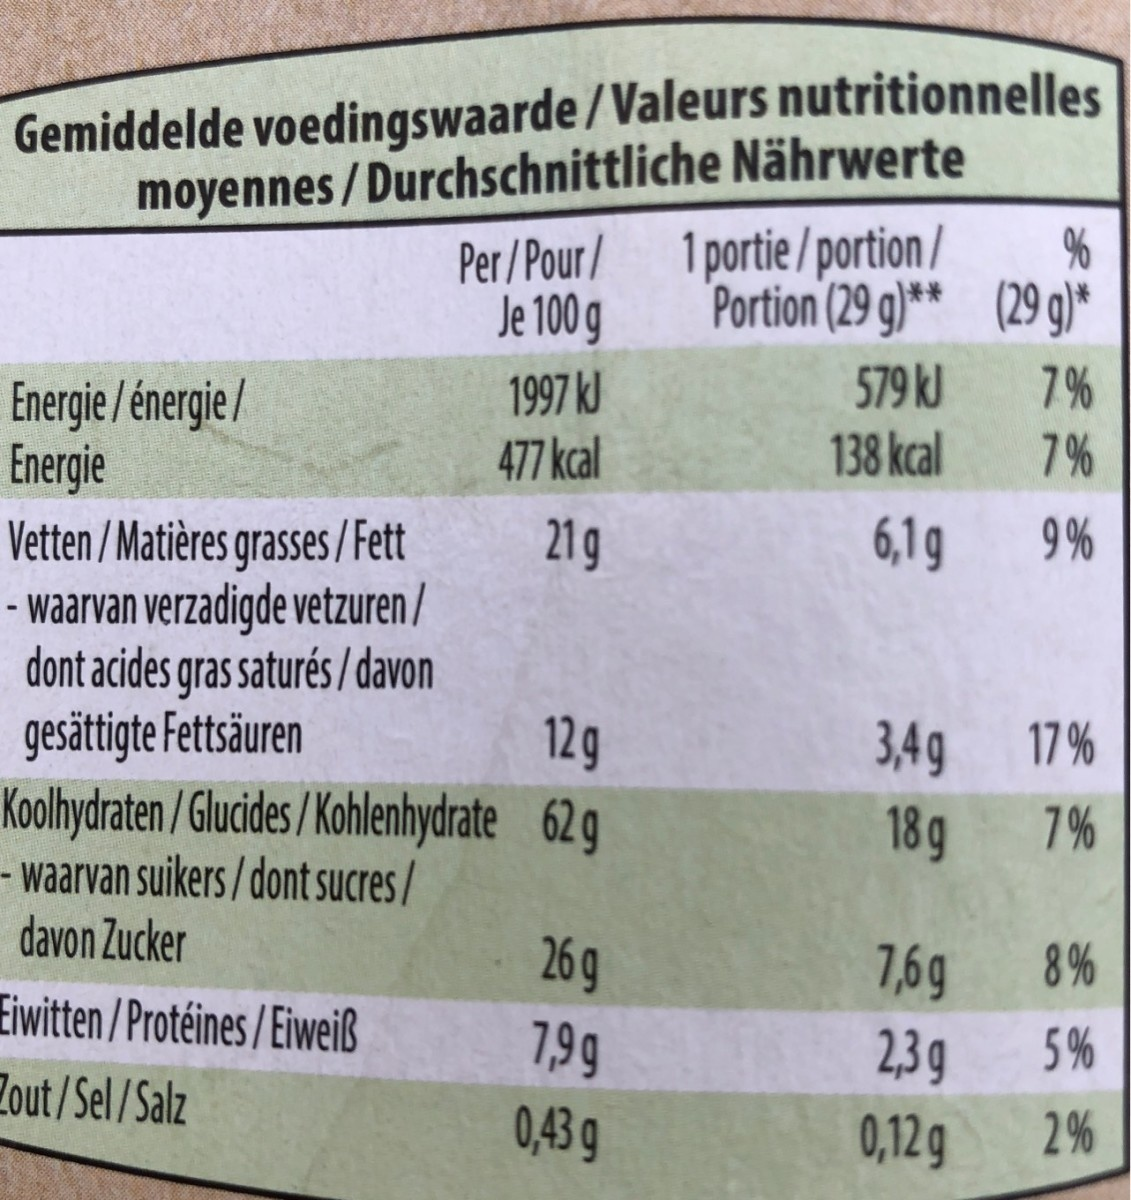column: (3, 248, 490, 1200), (674, 223, 953, 1200), (985, 218, 1102, 1200), (500, 235, 602, 1168)
table: (1, 14, 1131, 1200)
